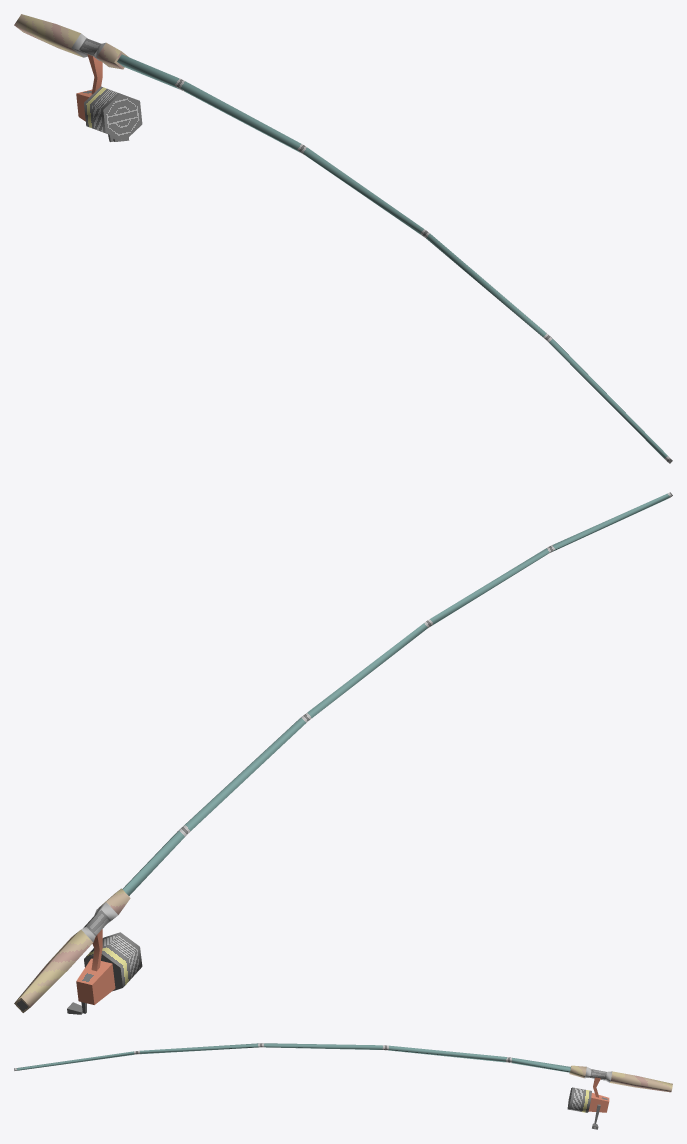
Rendered from 00a4_Fishing_Pole.glb.
3 views of the same model, one above another, from view 1: azimuth 30°, elevation 25°; view 2: azimuth 150°, elevation 25°; view 3: azimuth 270°, elevation 25° (orthographic). The views are drawn at different scales.
Visible parts, largest first — view 1: part_0; view 2: part_0; view 3: part_0.
Boxes of the visible parts, bbox=[...] form: part_0: bbox=[14, 14, 672, 463]; part_0: bbox=[14, 492, 672, 1014]; part_0: bbox=[14, 1043, 672, 1129].
Bounding box in the file's own units: 0.0653 × 0.212 × 1.59.
Materials: 1 (1 with a texture image).
